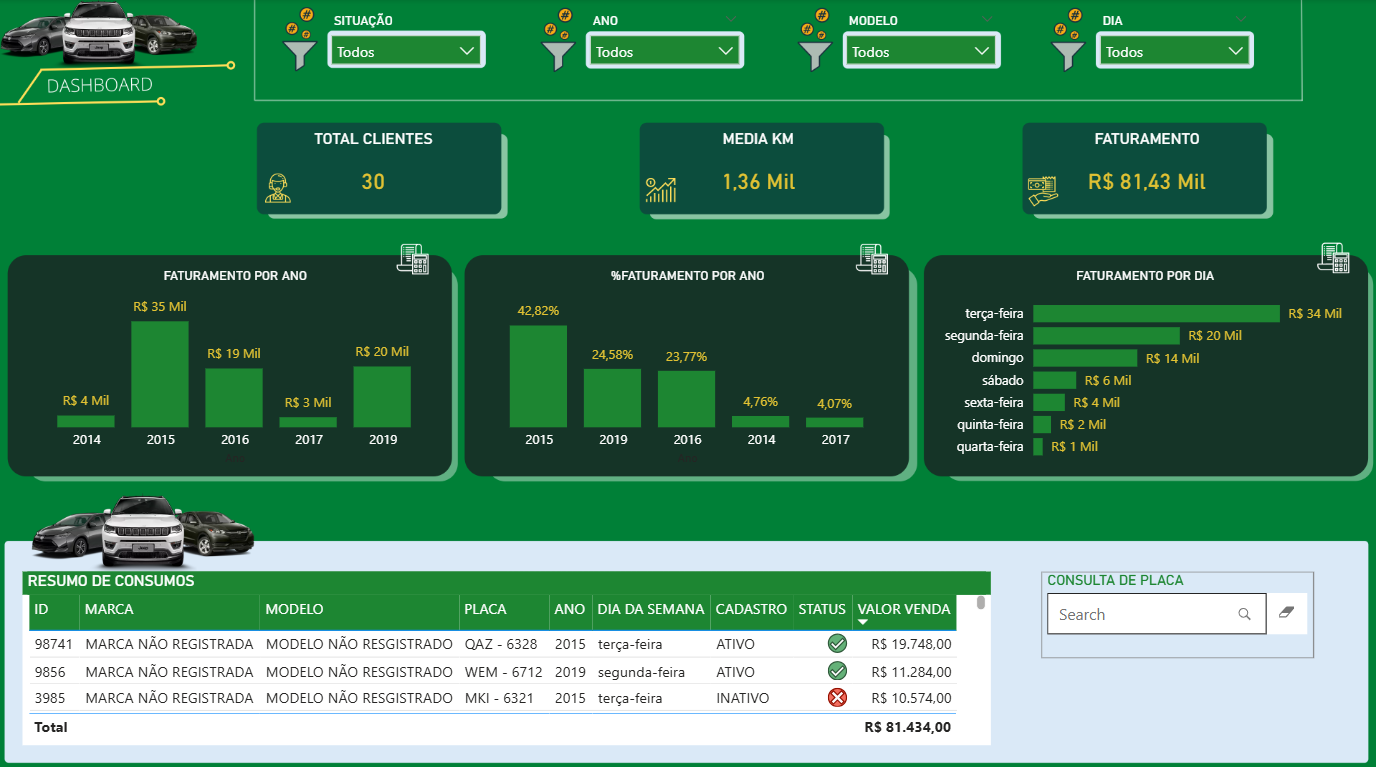

The dashboard page shown, as its layout file describes it:
{"tool":"powerbi","page":{"name":"LOCAÇÃO DE VEICULOS","canvas":[1280,720],"ordinal":1},"visuals":[{"type":"columnChart","title":"FATURAMENTO POR ANO","fields":{"Y":["tb_km.1 FAT MEDIDA"],"Category":["tb_km.DATA.Variation.Hierarquia de datas.Ano","tb_km.DATA.Variation.Hierarquia de datas.Trimestre","tb_km.DATA.Variation.Hierarquia de datas.Mês","tb_km.DATA.Variation.Hierarquia de datas.Dia"]},"box":[20.8,250,395.9,188.4],"z":0},{"type":"columnChart","title":"%FATURAMENTO POR ANO","fields":{"Y":["tb_km.1 FAT MEDIDA"],"Category":["tb_km.DATA.Variation.Hierarquia de datas.Ano","tb_km.DATA.Variation.Hierarquia de datas.Mês"]},"box":[442.1,250,395.9,188.4],"z":1000},{"type":"barChart","title":"FATURAMENTO POR DIA","fields":{"Y":["Divide(tb_km.1 FAT MEDIDA, ScopedEval(tb_km.1 FAT MEDIDA, []))"],"Category":["tb_km.Nome do Dia"]},"box":[867.8,250,395.9,188.4],"z":2000},{"type":"slicer","fields":{"Values":["tb_km.SITUAÇÃO CADASTRAL"]},"box":[298,8.2,159.4,61.6],"z":3000},{"type":"slicer","fields":{"Values":["tb_km.Ano"]},"box":[538.1,8.2,159.4,61.6],"z":4000},{"type":"slicer","fields":{"Values":["tb_km.MODELO"]},"box":[776.3,8.2,159.4,61.6],"z":5000},{"type":"slicer","fields":{"Values":["tb_km.Nome do Dia"]},"box":[1012.8,8.2,159.4,61.6],"z":6000},{"type":"card","title":"FATURAMENTO","fields":{"Values":["tb_km.1 FAT MEDIDA"]},"box":[899.5,120.5,334.3,80.6],"z":7000},{"type":"card","title":"MEDIA KM","fields":{"Values":["MEDIDAS.MEDIA KM"]},"box":[538.1,120.5,334.3,80.6],"z":8000},{"type":"tableEx","title":"RESUMO DE CONSUMOS","fields":{"Values":["tb_km.ID_CLIENTE","tb_km.MARCA","tb_km.MODELO","tb_km.PLACA","tb_km.Ano","tb_km.Nome do Dia","tb_km.SITUAÇÃO CADASTRAL","tb_km.ICONE","tb_km.1 FAT MEDIDA"]},"box":[20.4,532.9,900.9,161.4],"z":9000},{"type":"textFilter25A4896A83E0487089E2B90C9AE57C8A","title":"CONSULTA DE PLACA","fields":{"field":["tb_km.PLACA"]},"box":[969.2,532.9,253.6,80.7],"z":10000},{"type":"card","title":"TOTAL CLIENTES","fields":{"Values":["tb_km.TOTAL DE CLIENTES"]},"box":[180,120.6,334.3,80.7],"z":11000}]}

Visuals, with their boxes in screenshot pixels (x1, y1, x2, y2), scaled from the page's 1280x720 canvas onto the 1376x767 screenshot:
"FATURAMENTO POR ANO" columnChart: [x1=22, y1=266, x2=448, y2=467]
"%FATURAMENTO POR ANO" columnChart: [x1=475, y1=266, x2=901, y2=467]
"FATURAMENTO POR DIA" barChart: [x1=933, y1=266, x2=1358, y2=467]
slicer - tb_km.SITUAÇÃO CADASTRAL: [x1=320, y1=9, x2=492, y2=74]
slicer - tb_km.Ano: [x1=578, y1=9, x2=750, y2=74]
slicer - tb_km.MODELO: [x1=835, y1=9, x2=1006, y2=74]
slicer - tb_km.Nome do Dia: [x1=1089, y1=9, x2=1260, y2=74]
"FATURAMENTO" card: [x1=967, y1=128, x2=1326, y2=214]
"MEDIA KM" card: [x1=578, y1=128, x2=938, y2=214]
"RESUMO DE CONSUMOS" tableEx: [x1=22, y1=568, x2=990, y2=740]
"CONSULTA DE PLACA" textFilter25A4896A83E0487089E2B90C9AE57C8A: [x1=1042, y1=568, x2=1315, y2=654]
"TOTAL CLIENTES" card: [x1=194, y1=128, x2=553, y2=214]
